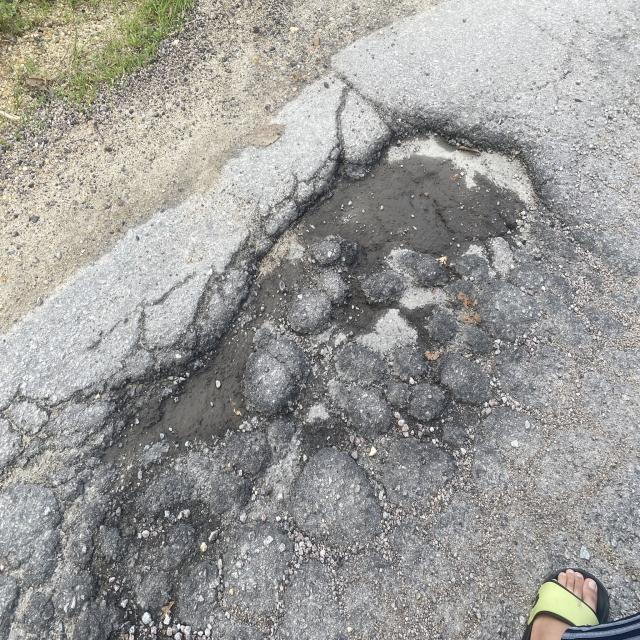pothole: (56, 98, 625, 433)
